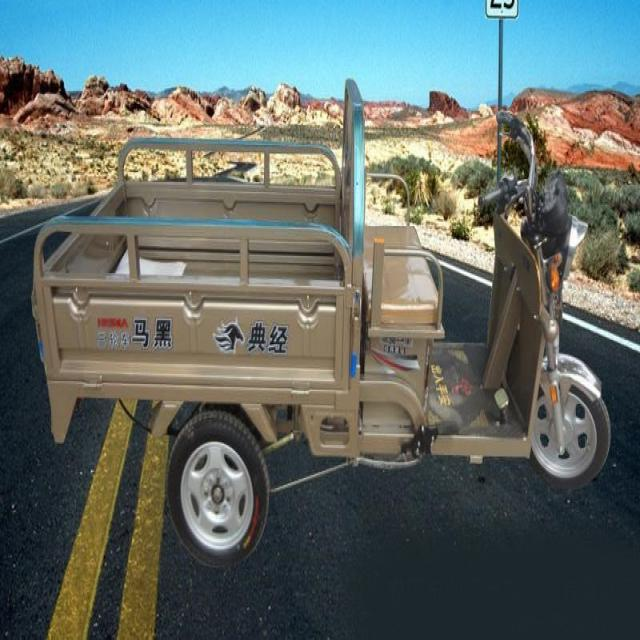tricycle: (30, 78, 612, 569)
